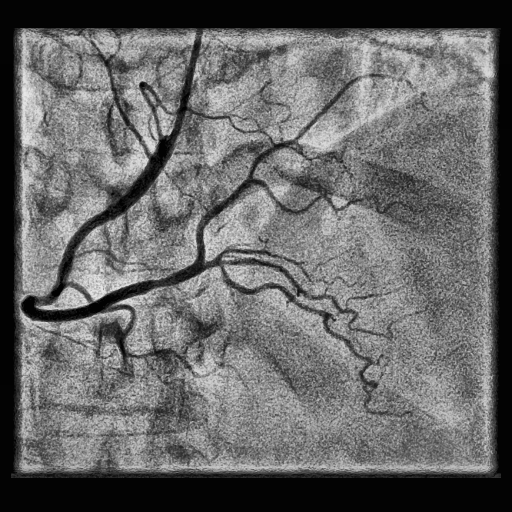pborca: (196, 74, 392, 259)
pda: (206, 258, 386, 337)
rca: (20, 139, 206, 321)
